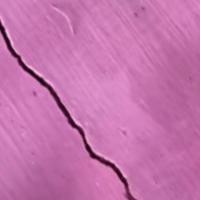crack: (0, 13, 134, 199)
